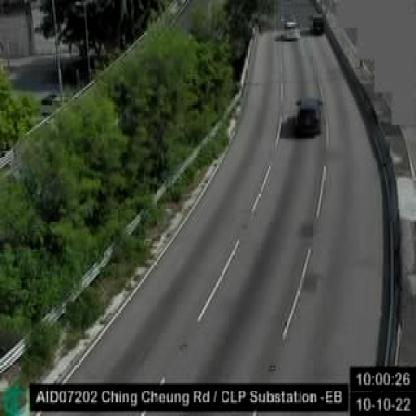Car: (295, 95, 325, 136), (310, 14, 324, 36), (286, 18, 299, 40)
